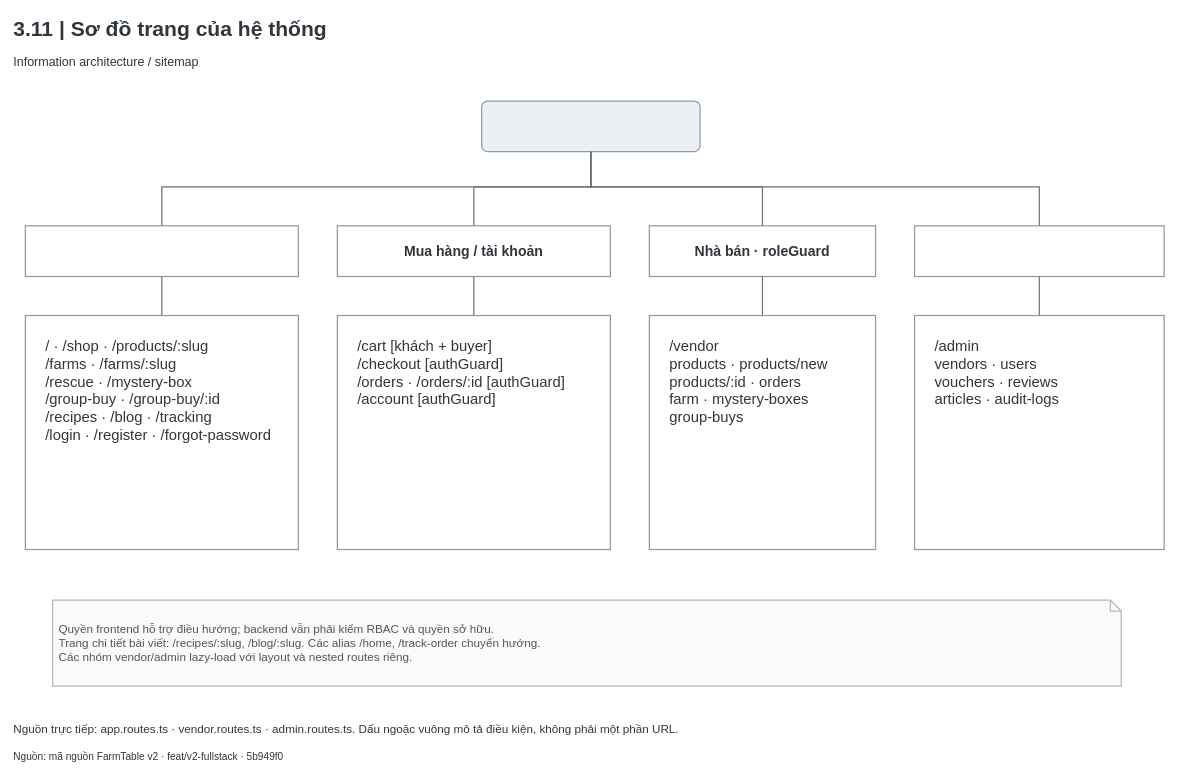
This 1189x778 diagram has some shape labels left out. The shapes that lost their labels are listed below. From the top down, each one's centre as x and y in pixels, then its label:
At point (590, 126): "FARMTABLE SPA".
At point (161, 251): "Công khai".
At point (1039, 251): "Quản trị · roleGuard".
